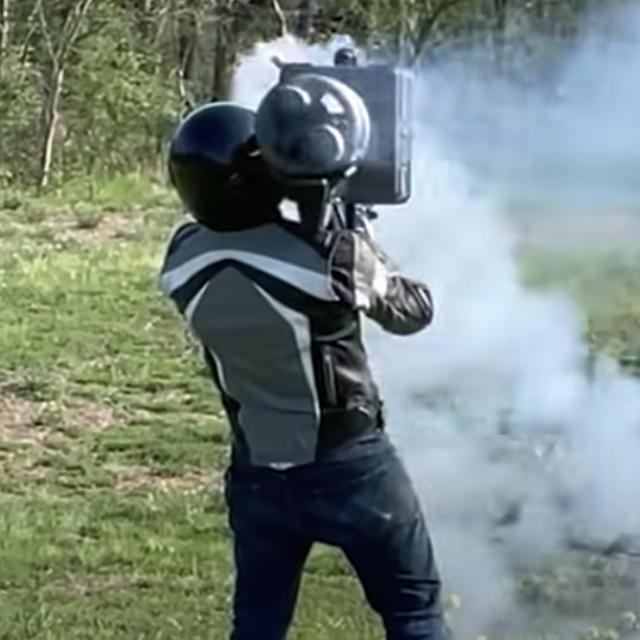bazooka: (233, 33, 444, 242)
